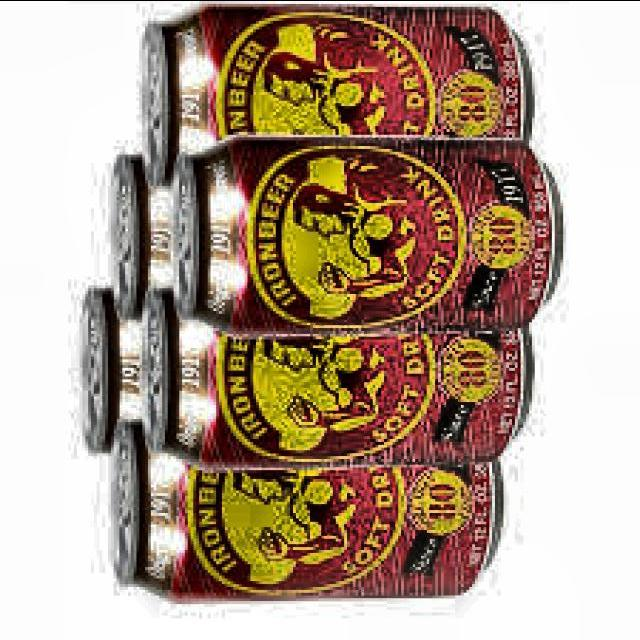Aluminum Can: (164, 137, 564, 336), (108, 412, 506, 606), (136, 0, 536, 183), (140, 282, 532, 468), (72, 281, 156, 456), (103, 150, 179, 322)
